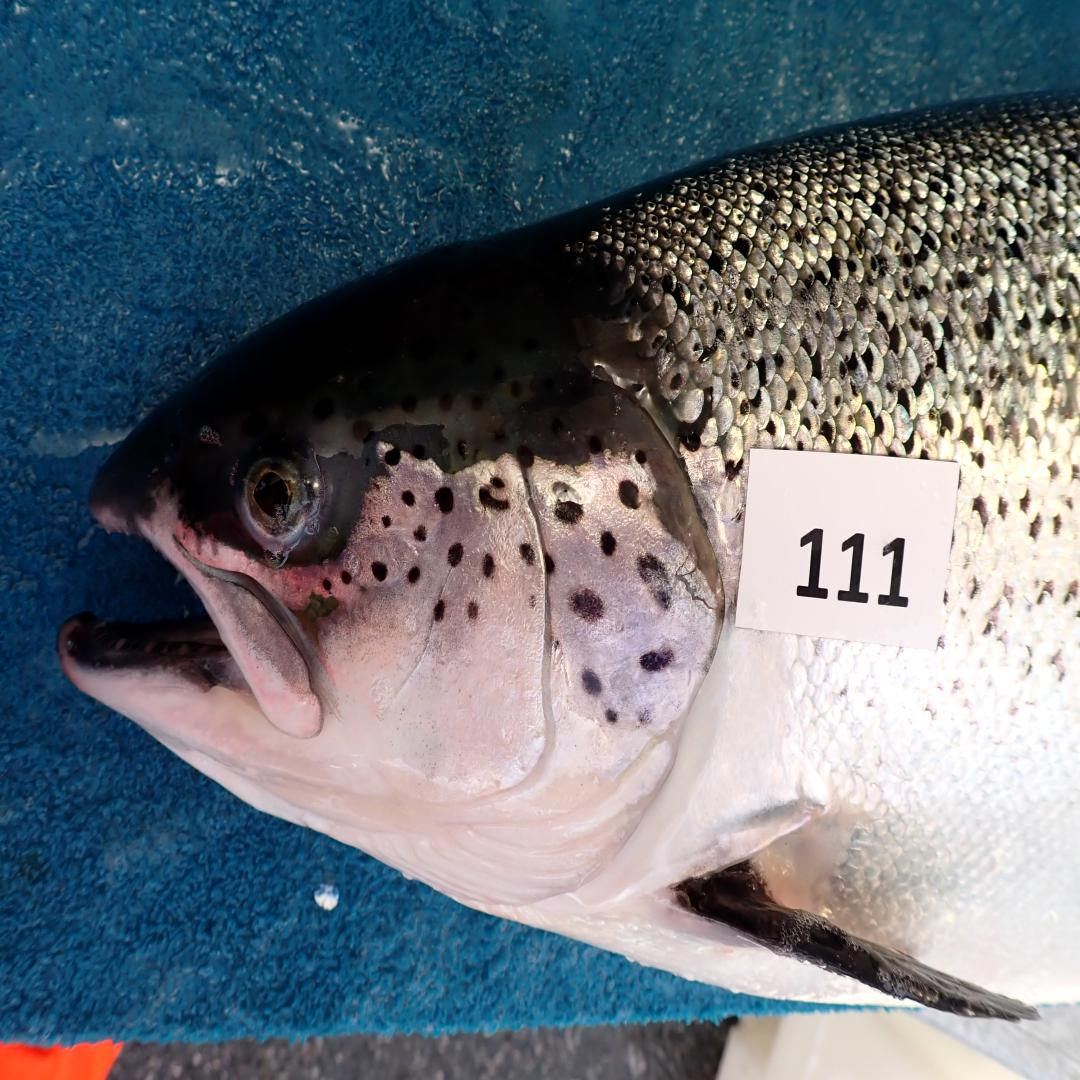roi: (320, 442, 724, 917)
